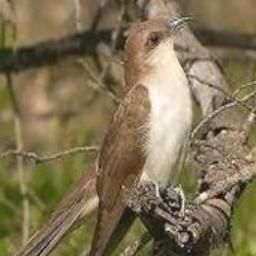Cuckoo: (84, 15, 198, 256)
